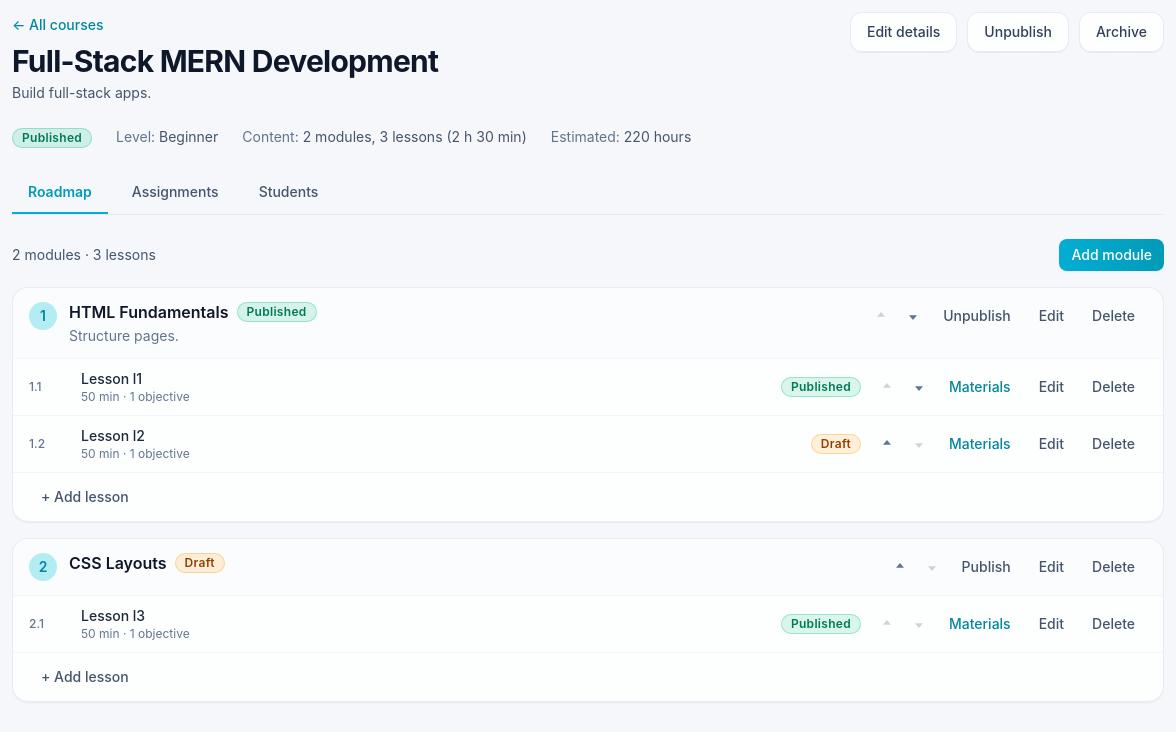
Course builder assignments tab › lists the course’s assignments with placement and review counts
Click the tab "Assignments" at (175,193), box [116,172,235,214]
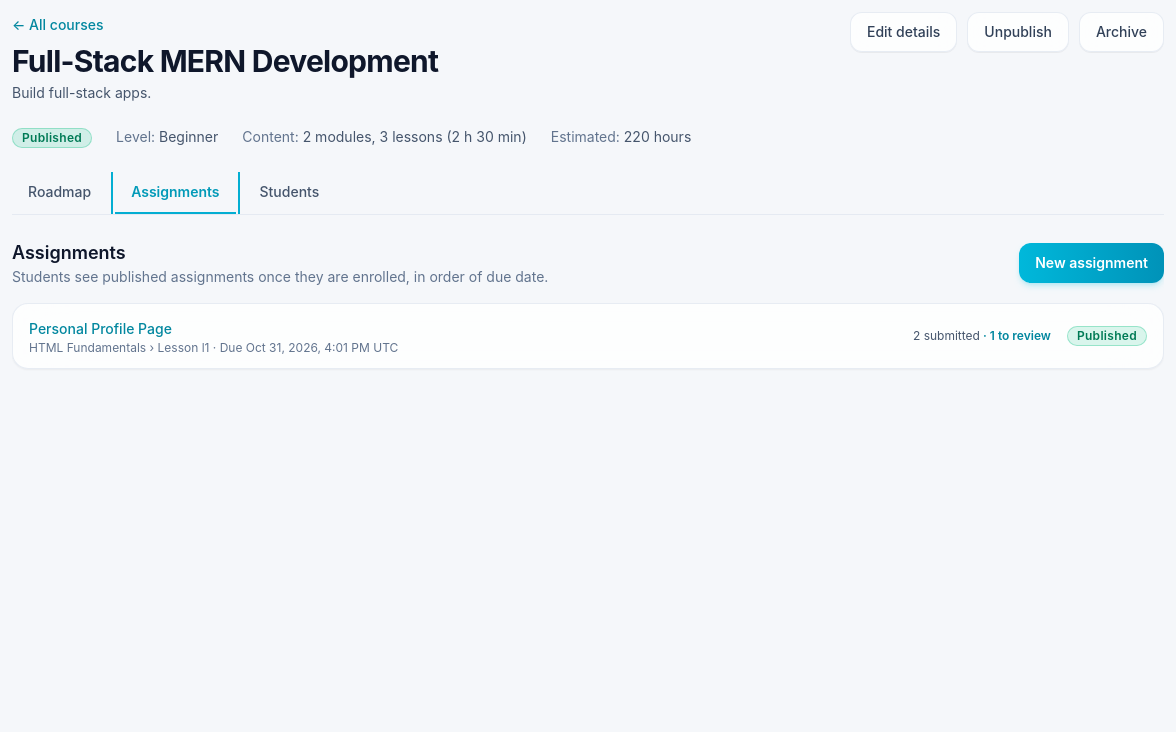
Result: the text "HTML Fundamentals › Lesson l1" is shown at [29,340,209,355]
Result: the text "· 1 to review" is shown at [980,328,1051,343]
